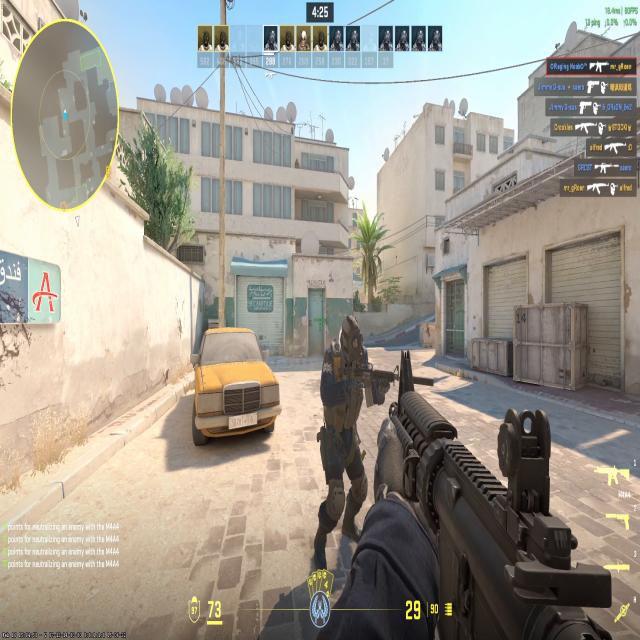player: (314, 304, 372, 586)
